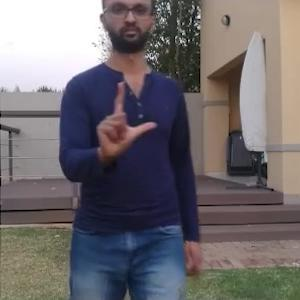land_hand: (87, 75, 160, 159)
